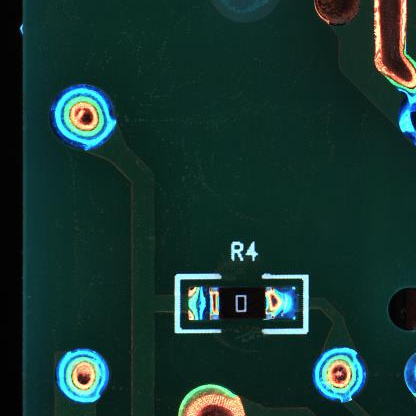spot: (51, 83, 117, 152), (312, 344, 366, 405), (56, 347, 110, 400)
